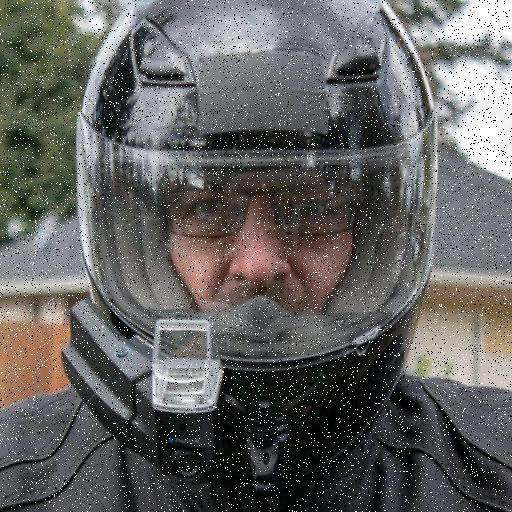Helmet: (68, 0, 442, 490)
